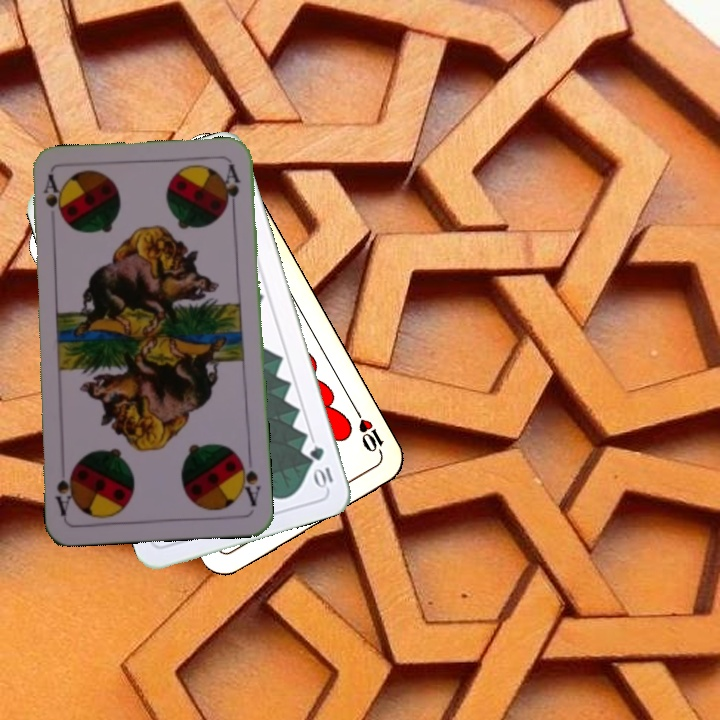G10: (306, 442, 336, 491)
H10: (351, 406, 387, 460)
SA: (235, 451, 263, 509), (39, 171, 63, 220)
